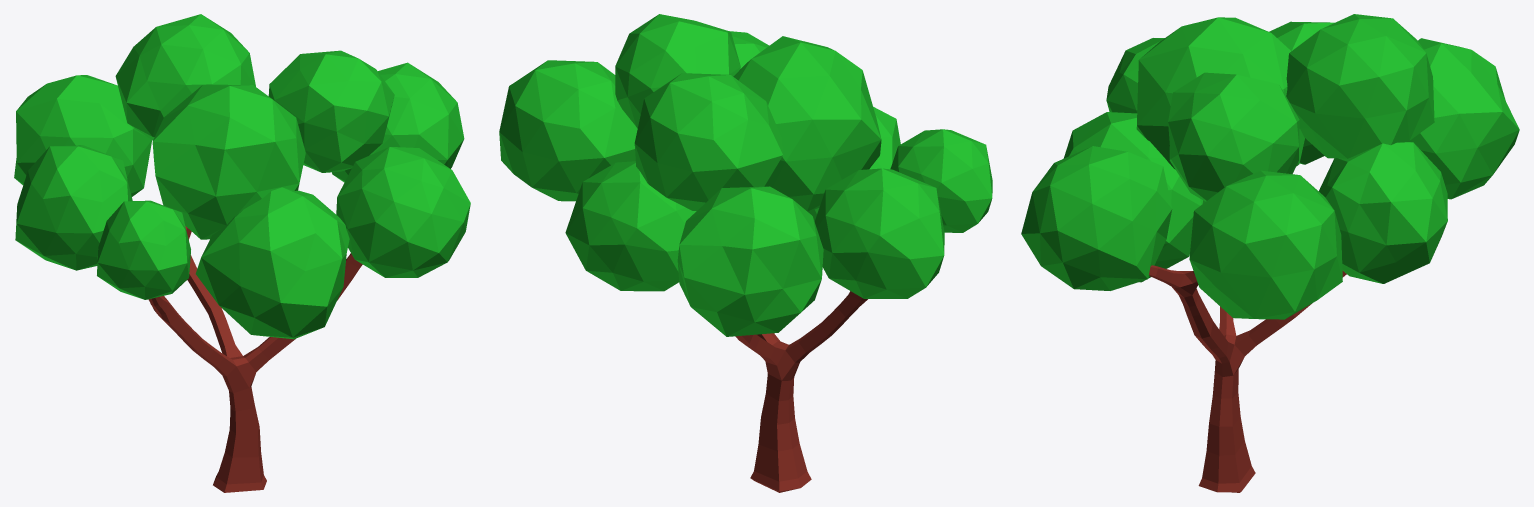
The model's file is Tree.fbx.
3 views of the same model, side by side, from view 1: azimuth 30°, elevation 25°; view 2: azimuth 150°, elevation 25°; view 3: azimuth 270°, elevation 25° (orthographic). The views are drawn at different scales.
Parts seen in each view (by area): view 1: Tree; view 2: Tree; view 3: Tree.
Part boxes in pixels (x1,y1,x2,y2): Tree: (14,14,470,492); Tree: (499,14,992,492); Tree: (1021,14,1519,492).
Size of the model in its own units: 544 by 519 by 501.
